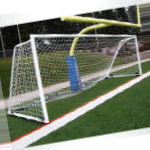goals: (6, 31, 145, 124)
